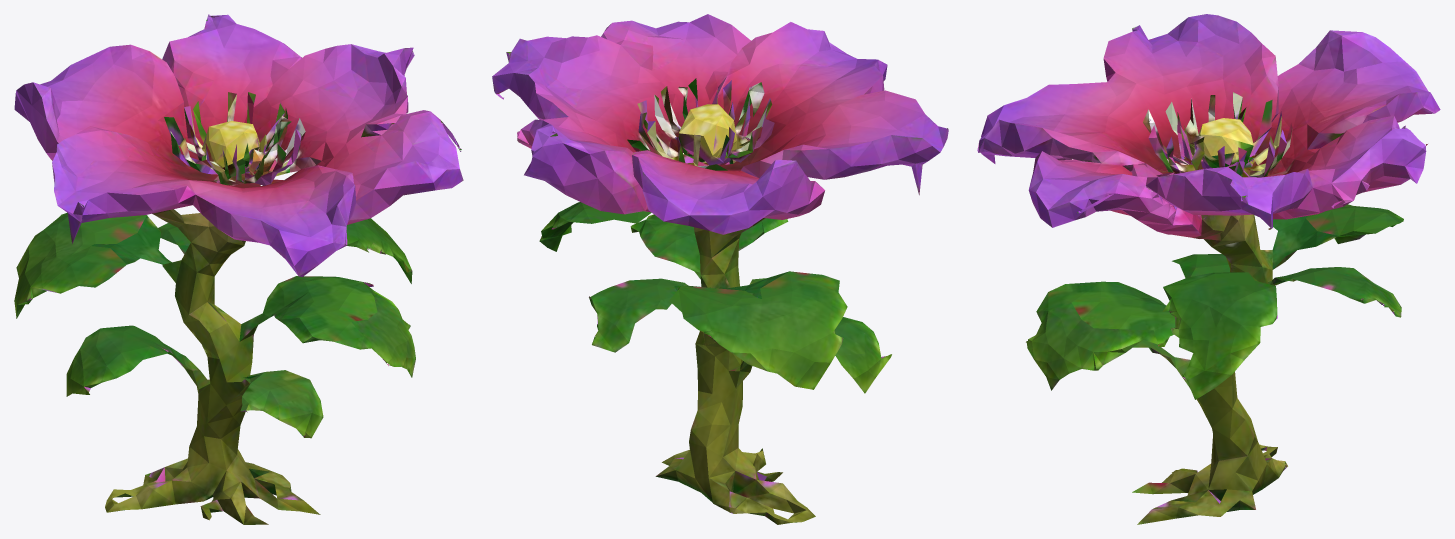
Rendered from fairy_giantflower_1117.glb.
3 views of the same model, side by side, from view 1: azimuth 30°, elevation 25°; view 2: azimuth 150°, elevation 25°; view 3: azimuth 270°, elevation 25° (orthographic). The views are drawn at different scales.
Parts seen in each view (by area): view 1: world; view 2: world; view 3: world.
Boxes of the visible parts, box(x1,y1,x2,y2) form: world: box(14, 14, 463, 524); world: box(492, 14, 948, 524); world: box(977, 14, 1440, 524).
Bounding box in the file's own units: 1.03 × 1 × 1.02.
Materials: 1 (1 with a texture image).
